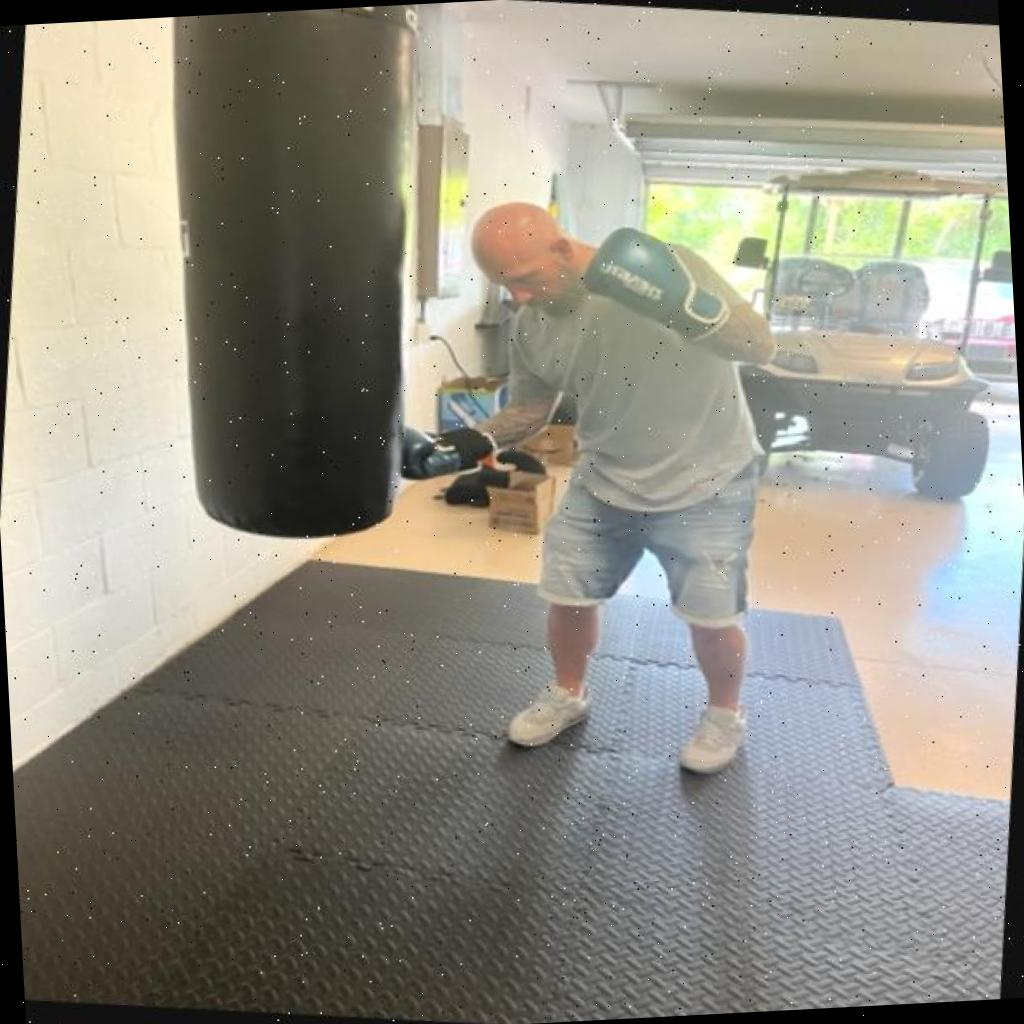uppercut: (294, 150, 780, 561)
